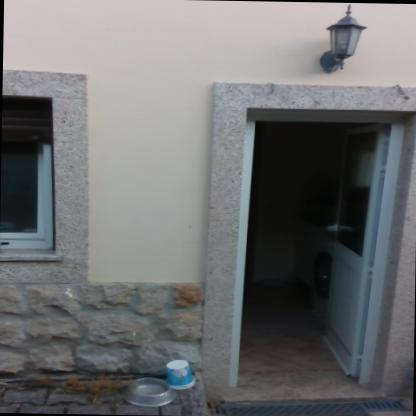open: (218, 90, 416, 396)
